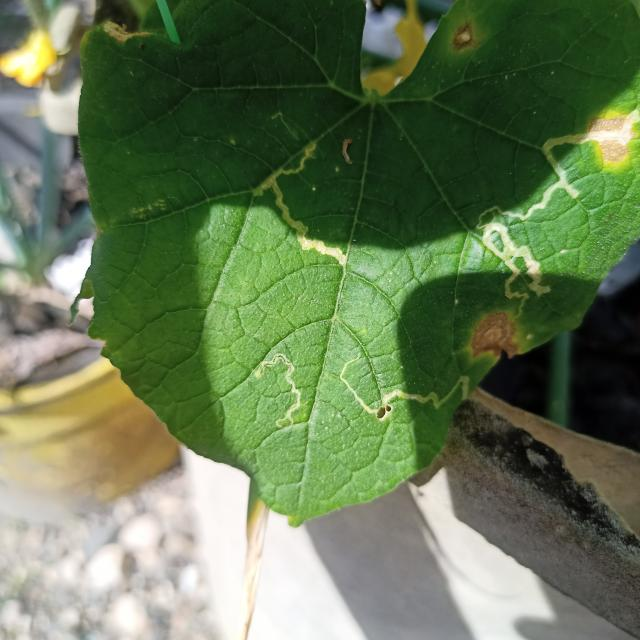disease_cucumber: (469, 310, 522, 365), (588, 110, 633, 168), (446, 18, 479, 55)
